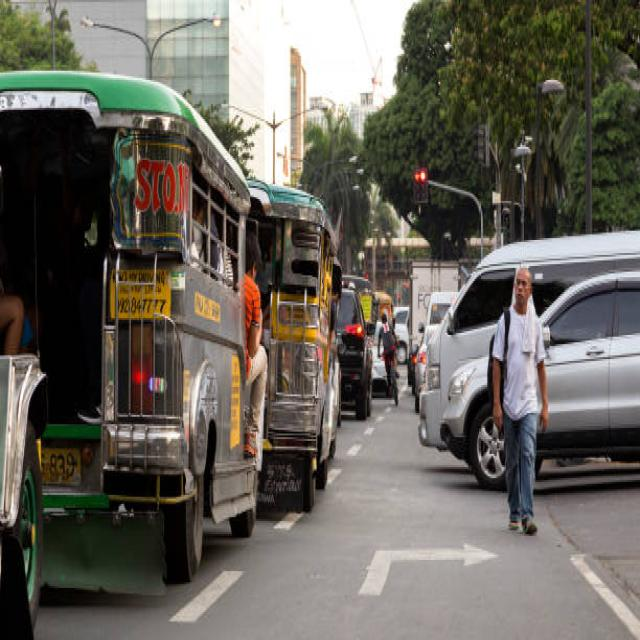Vehicle: (0, 65, 258, 586), (423, 227, 640, 457), (444, 272, 640, 488), (251, 171, 336, 506), (338, 284, 370, 430)
